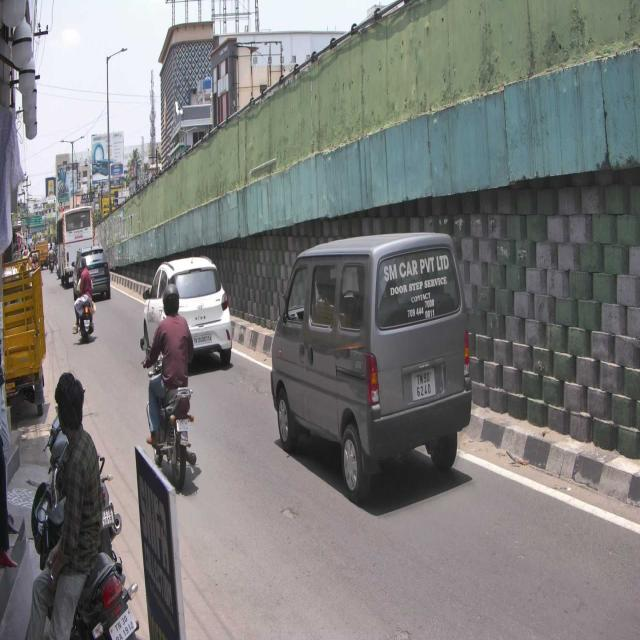single_rider: (140, 282, 198, 501)
